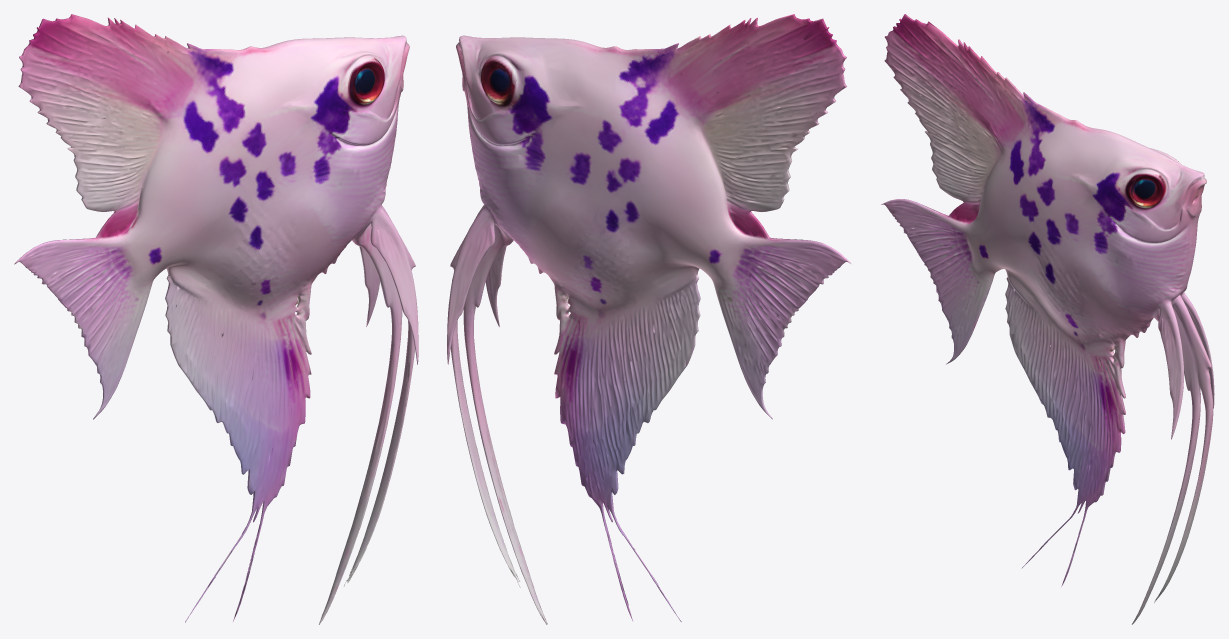
File: angle fish.glb
3 views of the same model, side by side, from view 1: azimuth 30°, elevation 25°; view 2: azimuth 150°, elevation 25°; view 3: azimuth 330°, elevation 25° (orthographic). The views are drawn at different scales.
Parts seen in each view (by area): view 1: material; view 2: material; view 3: material.
Part boxes in pixels (<box>): material: <box>14,14,418,624</box>; material: <box>447,14,850,624</box>; material: <box>881,14,1214,624</box>.
Size of the model in its own units: 0.6606 by 1.05 by 0.1465.
Materials: 1 (1 with a texture image).
